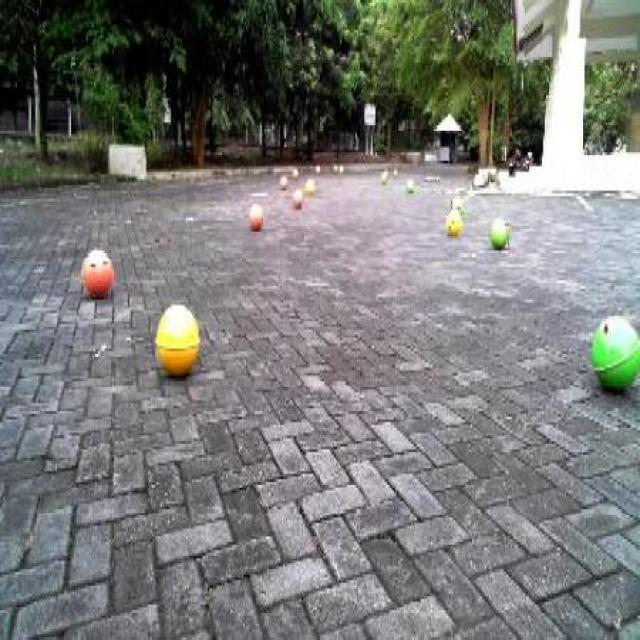buoy: (144, 282, 210, 396), (586, 304, 640, 412), (73, 230, 123, 312), (484, 203, 514, 258), (441, 198, 466, 246), (243, 194, 268, 238), (284, 178, 306, 217)
